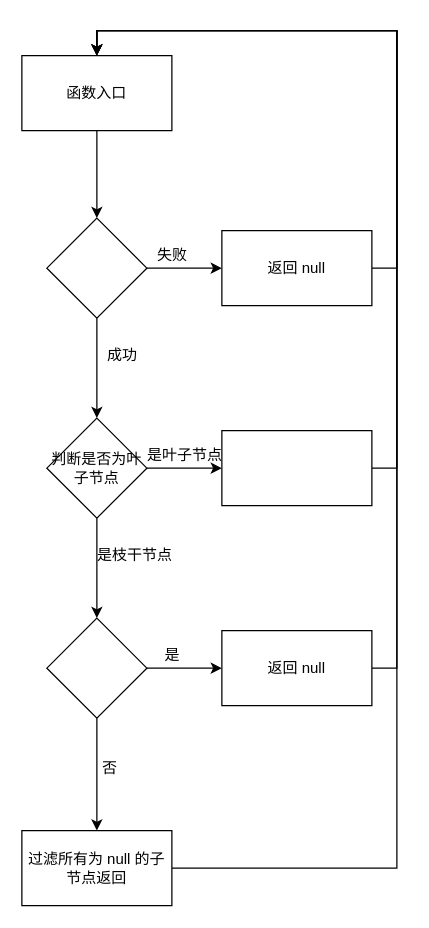
The diagram is 429 pixels wide and 928 high, and some of its shapes have lost their labels. The box of each missing label's shape, as (x1, y1, x2, y2) in pixels:
判断是否过滤失败: (46, 217, 147, 318)
是否所有子节点都为 null: (46, 617, 147, 718)
返回节点: (221, 429, 372, 506)
